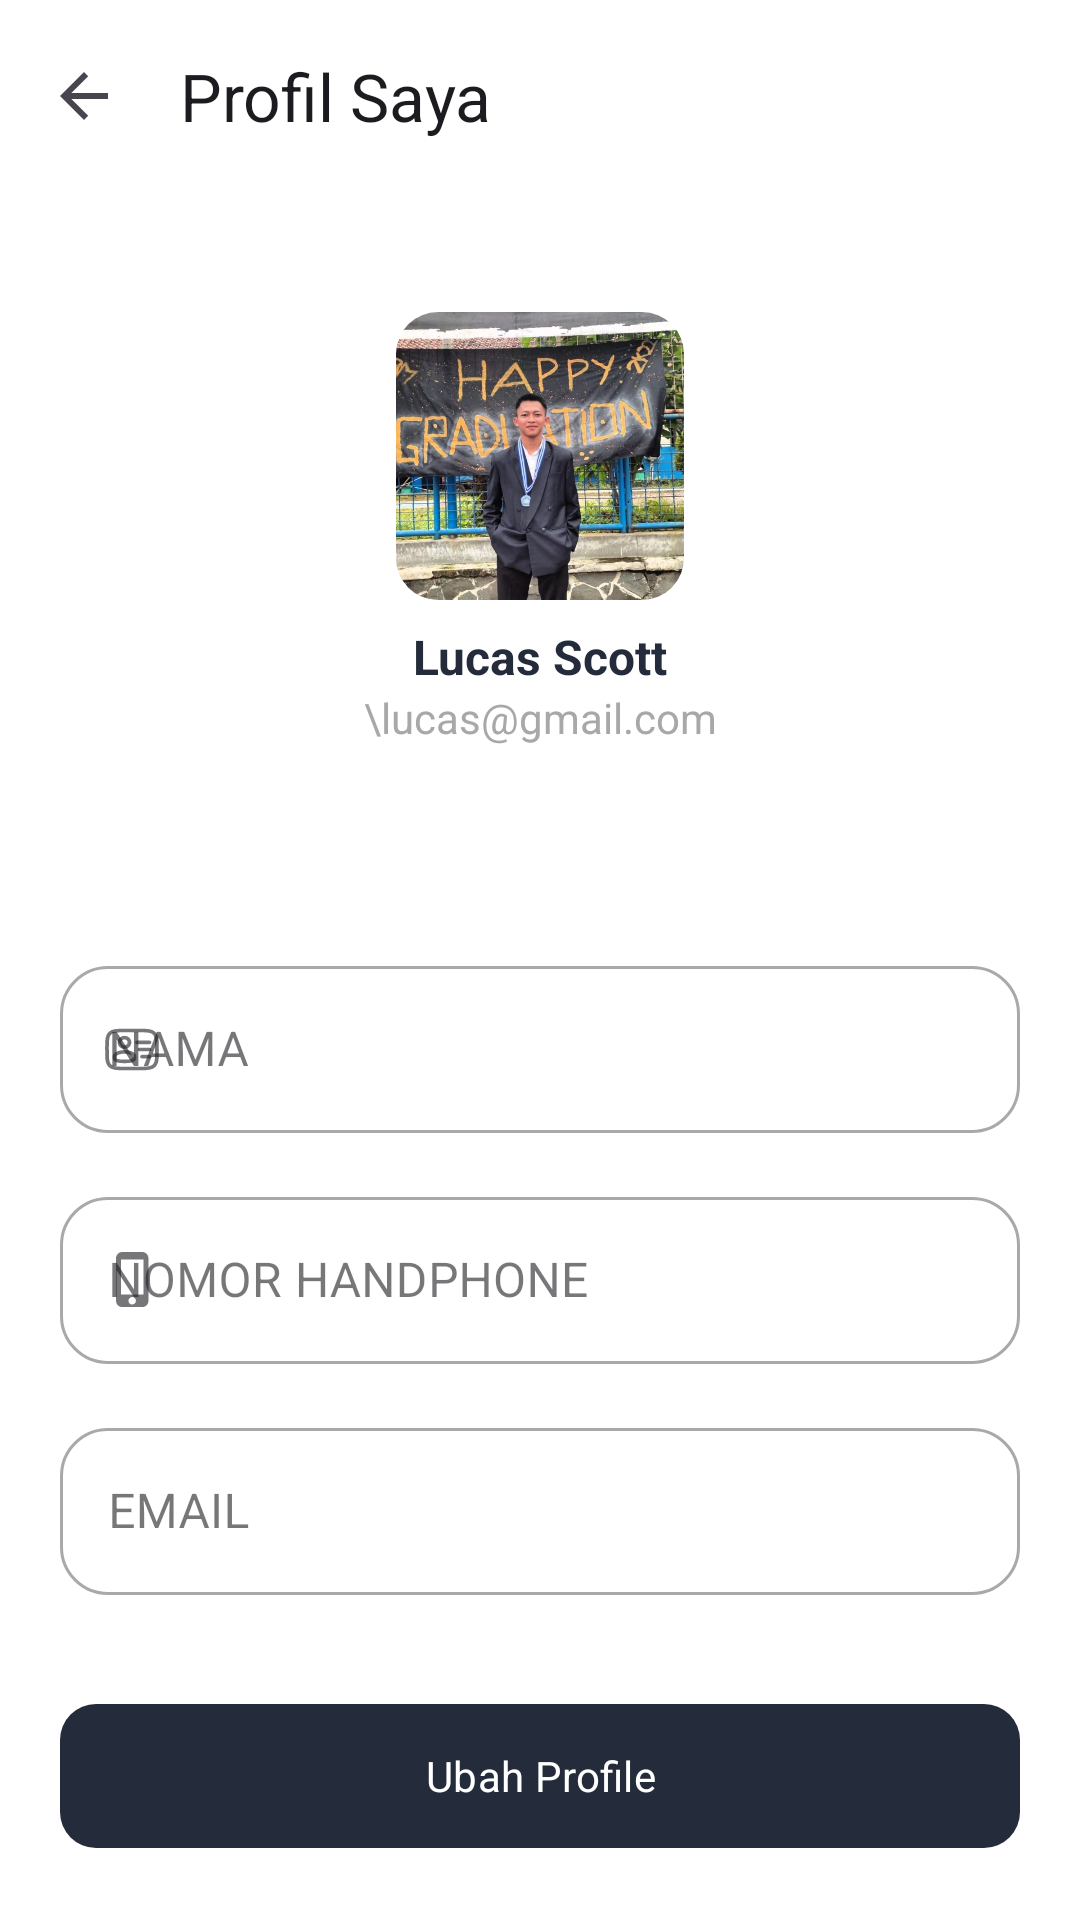

Named icons in this screenshot (1080w x 1920h) and their centers, (x=x, y=y):
profile: (x=540, y=456)
